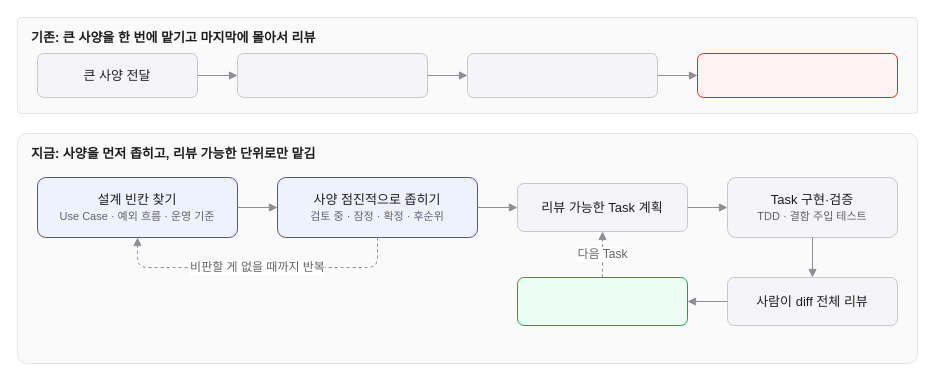
This 935x381 diagram has some shape labels left out. Each missing label, with the centre of its shape:
"머지할 때 몰아서 리뷰" goes at (562,75).
"승인 범위만 커밋" goes at (602,301).
"에이전트가 한 번에 구현" goes at (332,75).
"이해의 부채 · 숨은 사양" goes at (797,75).
